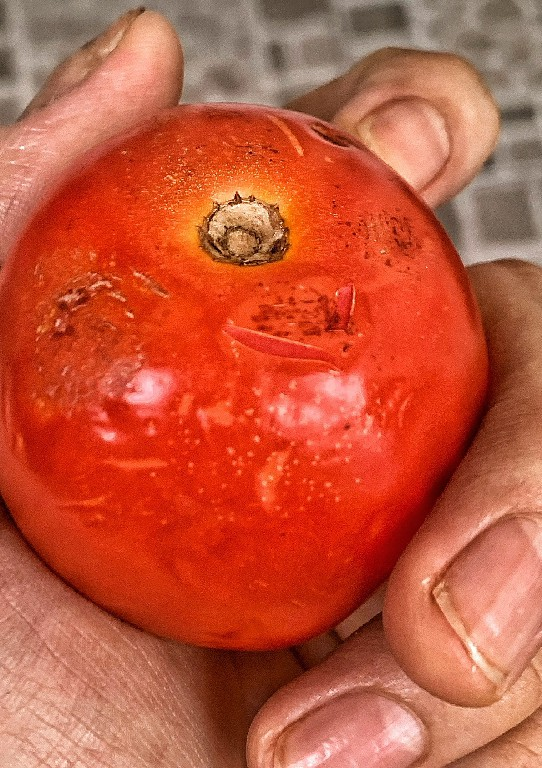NG: (5, 101, 490, 653)
